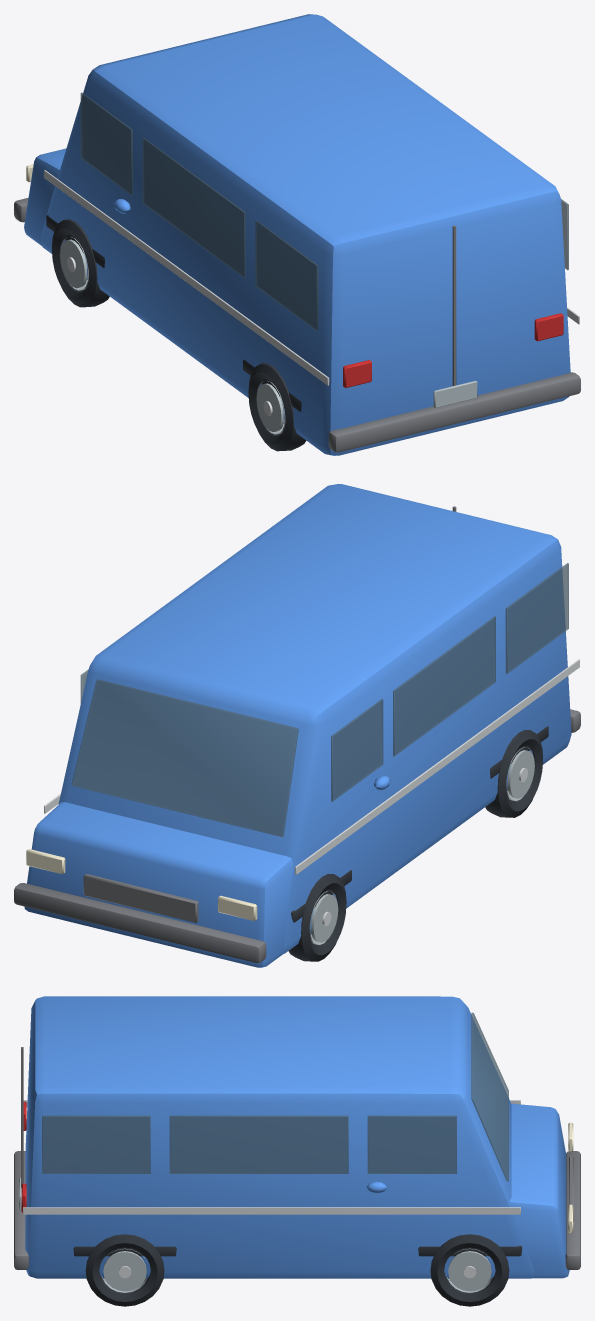
The model's file is TrafficVan.fbx.
3 renders of one model, top to bottom at view 1: azimuth 30°, elevation 25°; view 2: azimuth 150°, elevation 25°; view 3: azimuth 270°, elevation 25°, orthographic. The views are drawn at different scales.
Visible parts, largest first — view 1: Body__paint, Body__glass, Body__engine, Body__chrome, WheelFL__rubber, WheelRL__rubber, Body__tail, WheelRL__metal, WheelFL__metal, Body__metal, Body__rubber; view 2: Body__paint, Body__glass, Body__engine, Body__chrome, WheelFL__rubber, WheelRL__rubber, Body__lamp, WheelRL__metal, WheelFL__metal, Body__rubber; view 3: Body__paint, Body__glass, Body__chrome, Body__engine, WheelFR__rubber, WheelRR__rubber, WheelFR__metal, WheelRR__metal, Body__rubber.
Boxes of the visible parts, x1,y1,x2,y2 form: Body__paint: (24,14,570,455); Body__glass: (80,92,568,331); Body__engine: (14,197,580,452); Body__chrome: (44,170,579,385); WheelFL__rubber: (52,219,109,307); WheelRL__rubber: (248,363,306,451); Body__tail: (343,313,563,388); WheelRL__metal: (256,380,285,434); WheelFL__metal: (60,236,88,290); Body__metal: (433,380,477,408); Body__rubber: (46,214,301,411); Body__paint: (24,484,571,967); Body__glass: (71,563,568,837); Body__engine: (14,506,580,962); Body__chrome: (44,659,579,874); WheelFL__rubber: (288,874,346,961); WheelRL__rubber: (485,730,542,817); Body__lamp: (26,849,257,920); WheelRL__metal: (506,747,534,801); WheelFL__metal: (309,891,338,944); Body__rubber: (291,726,548,922); Body__paint: (25,996,569,1278); Body__glass: (42,1012,508,1181); Body__chrome: (23,1100,520,1214); Body__engine: (14,1047,580,1269); WheelFR__rubber: (430,1234,509,1306); WheelRR__rubber: (85,1234,164,1306); WheelFR__metal: (446,1248,493,1292); WheelRR__metal: (101,1248,148,1292); Body__rubber: (73,1245,522,1256).
Size of the model in its own units: 2.16 by 1.84 by 4.44.
